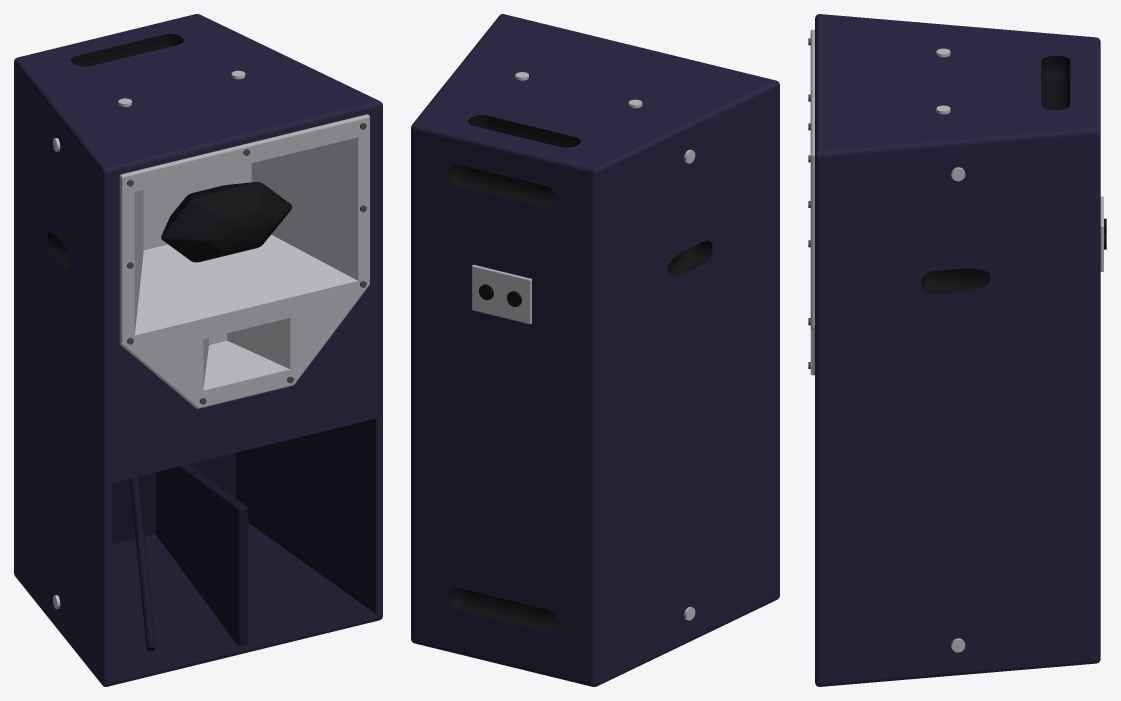
The model's file is res2.glb.
3 renders of one model, left to right at view 1: azimuth 30°, elevation 25°; view 2: azimuth 150°, elevation 25°; view 3: azimuth 270°, elevation 25°, orthographic. The views are drawn at different scales.
Visible parts, largest first — view 1: Body, BassHorn, MidHorn, Panel, Divider, Plug, HighHorn, Handles, Strut; view 2: Body, Handles, Plate; view 3: Body, Handles, Panel, Flypoints.
Boxes of the visible parts, box(x1,y1,x2,y2) form: Body: box(14, 14, 382, 686); BassHorn: box(112, 418, 376, 678); MidHorn: box(135, 138, 353, 331); Panel: box(119, 114, 369, 408); Divider: box(156, 464, 248, 645); Plug: box(161, 182, 292, 262); HighHorn: box(203, 319, 285, 386); Handles: box(47, 34, 183, 270); Strut: box(130, 476, 155, 650); Body: box(411, 14, 779, 686); Handles: box(448, 115, 712, 632); Plate: box(472, 264, 531, 324); Body: box(815, 14, 1100, 686); Handles: box(921, 55, 1070, 294); Panel: box(810, 29, 814, 375); Flypoints: box(936, 48, 965, 652).
Bounding box in the file's own units: 0.5193 × 0.925 × 0.4645.
